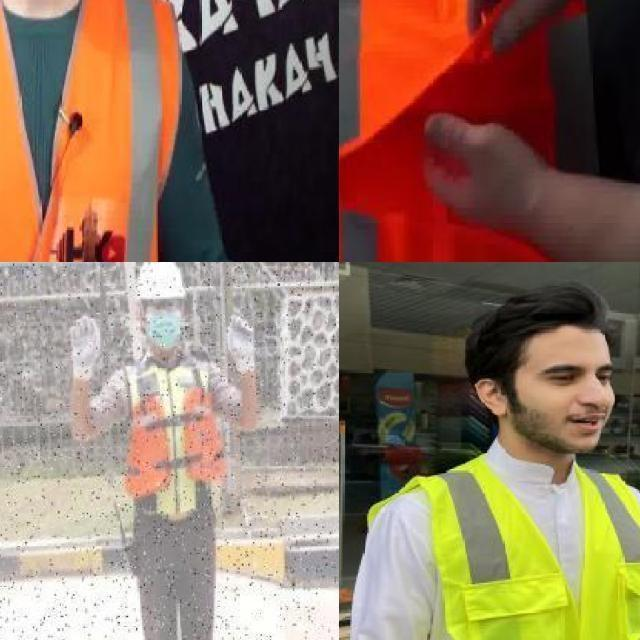apron: (66, 314, 102, 387), (226, 308, 258, 382)
